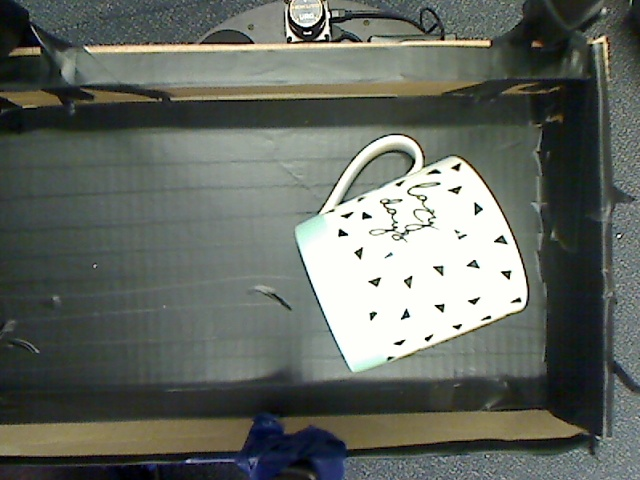mug: (276, 132, 550, 364)
